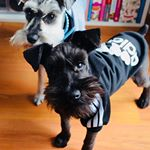puppy: (24, 24, 112, 150), (2, 1, 69, 46)
